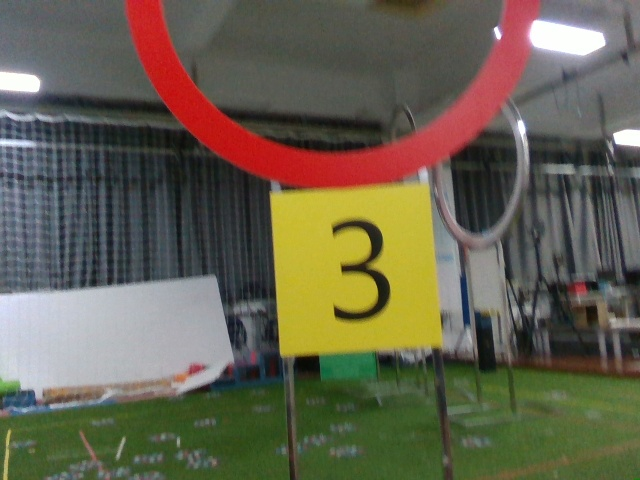target: (277, 189, 435, 343)
